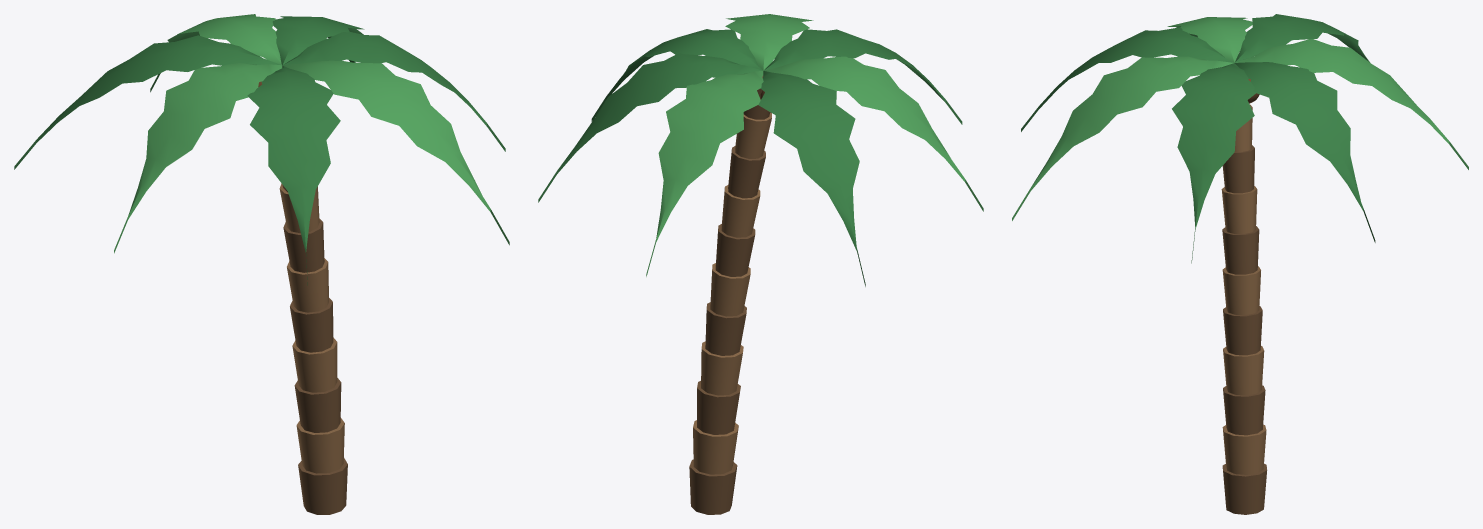
The model's file is b_palm_b.gltf.
The picture shows the model from 3 angles, left to right: view 1: azimuth 30°, elevation 25°; view 2: azimuth 150°, elevation 25°; view 3: azimuth 270°, elevation 25°; orthographic projection. The views are drawn at different scales.
Parts seen in each view (by area): view 1: b_palm_b; view 2: b_palm_b; view 3: b_palm_b.
Boxes of the visible parts, bbox=[...] form: b_palm_b: bbox=[14, 14, 509, 514]; b_palm_b: bbox=[538, 14, 983, 514]; b_palm_b: bbox=[1012, 14, 1468, 514].
Size of the model in its own units: 3.31 by 3.75 by 3.56.
Materials: 1 (1 with a texture image).
